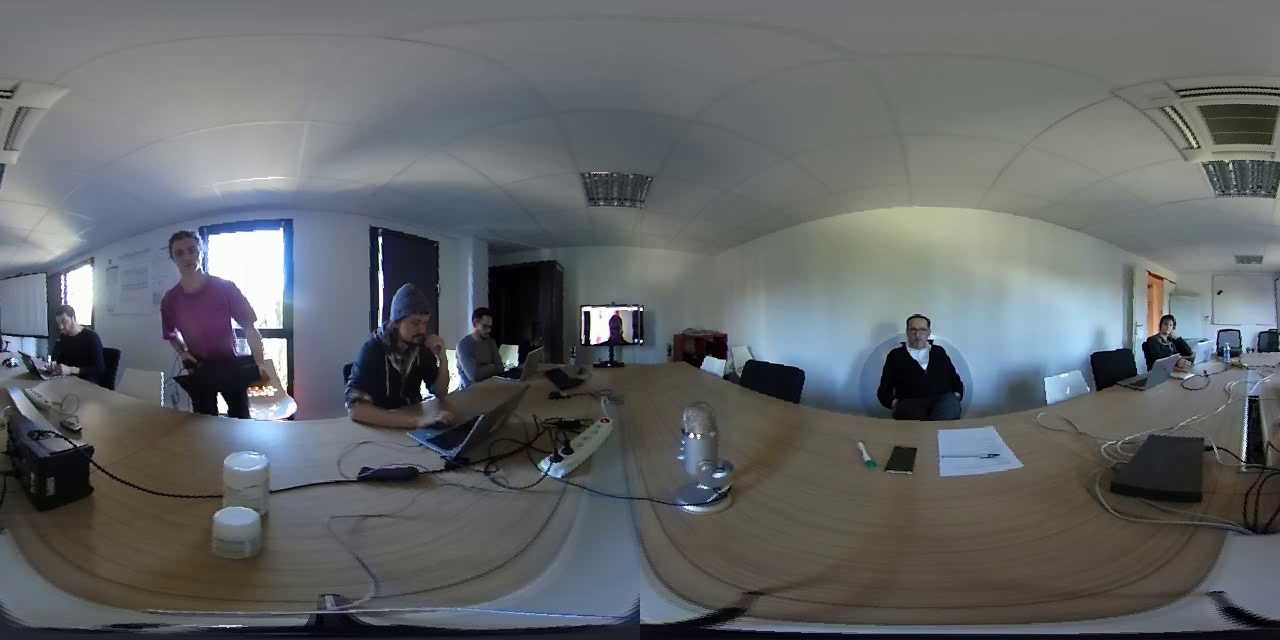person: (152, 221, 277, 415), (338, 267, 449, 425), (877, 304, 974, 424), (41, 292, 113, 400), (456, 279, 508, 379), (1143, 312, 1189, 358), (580, 306, 640, 338)
